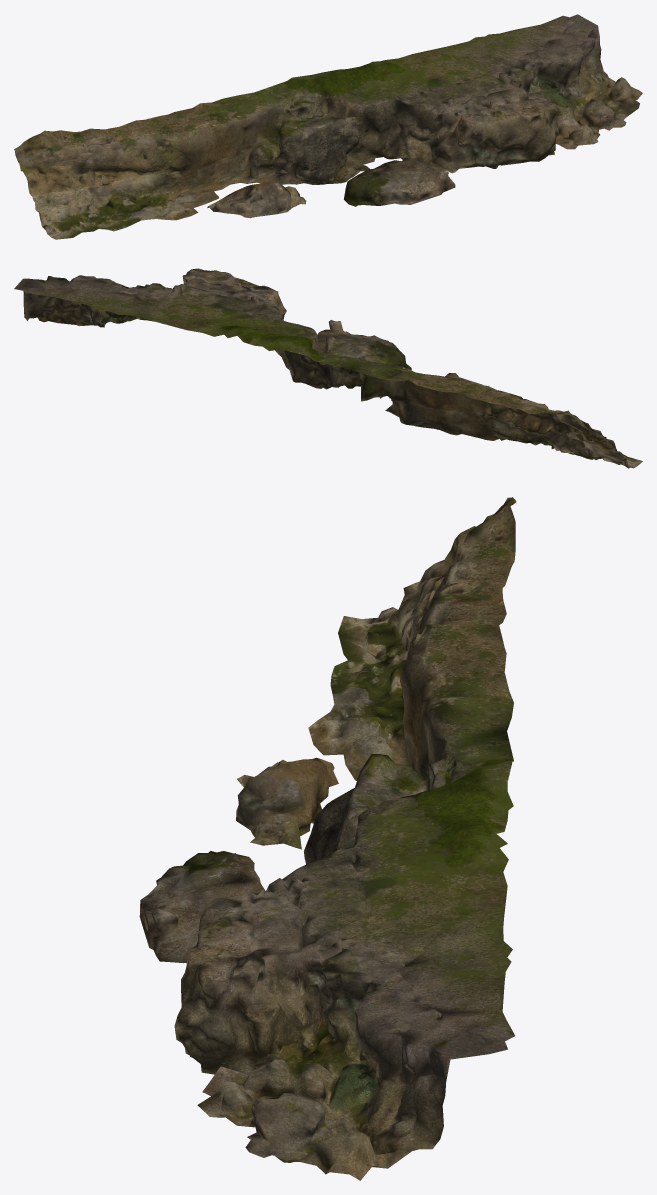
The model's file is cliff2.glb.
The picture shows the model from 3 angles, top to bottom: view 1: azimuth 30°, elevation 25°; view 2: azimuth 150°, elevation 25°; view 3: azimuth 270°, elevation 25°; orthographic projection. The views are drawn at different scales.
Parts seen in each view (by area): view 1: coastal_cliff_04; view 2: coastal_cliff_04; view 3: coastal_cliff_04.
Part boxes in pixels (x1,y1,x2,y2): coastal_cliff_04: (14, 14, 642, 239); coastal_cliff_04: (14, 268, 642, 468); coastal_cliff_04: (139, 497, 516, 1180).
Bounding box in the file's own units: 86.77 × 10.98 × 24.13.
1 material, 1 textured.
